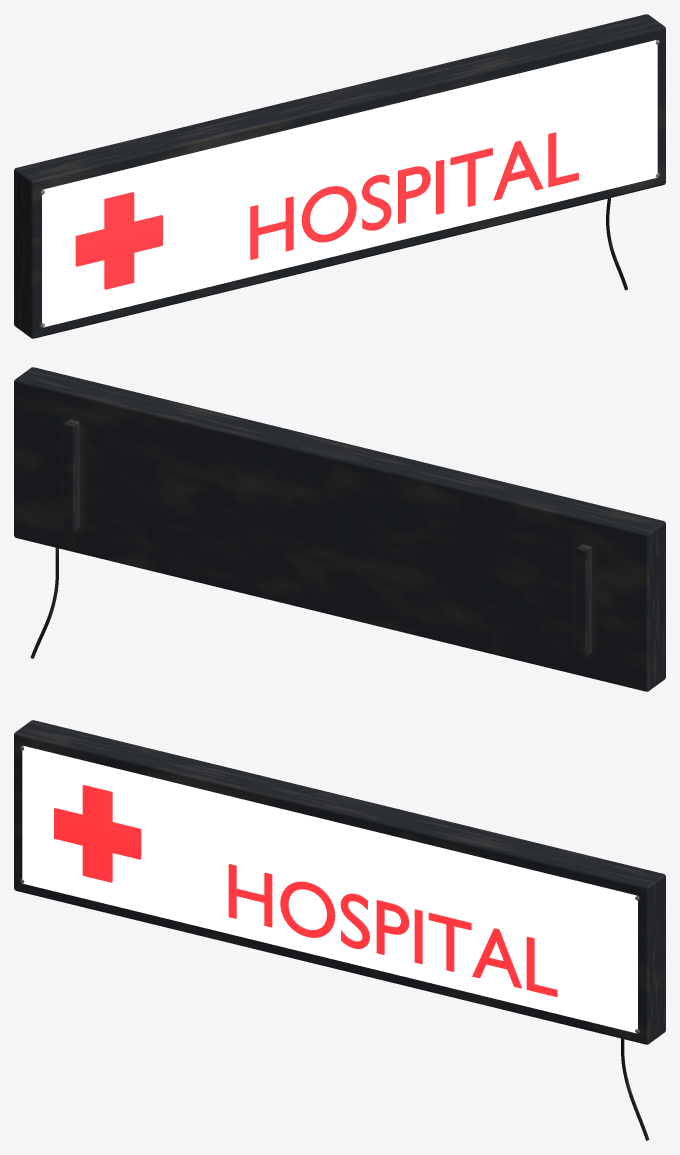
The model's file is szp_szyld.glb.
3 views of the same model, one above another, from view 1: azimuth 30°, elevation 25°; view 2: azimuth 150°, elevation 25°; view 3: azimuth 330°, elevation 25° (orthographic).
Parts seen in each view (by area): view 1: SwiatloLico, Kaseton, SwiatloNapis, SwiatloZnak; view 2: Kaseton; view 3: SwiatloLico, Kaseton, SwiatloNapis, SwiatloZnak.
Boxes of the visible parts, x1,y1,x2,y2 form: SwiatloLico: (42,40,657,327); Kaseton: (14,14,665,338); SwiatloNapis: (250,132,578,259); SwiatloZnak: (75,192,162,289); Kaseton: (14,367,665,691); SwiatloLico: (22,745,637,1033); Kaseton: (14,720,665,1140); SwiatloNapis: (228,864,557,996); SwiatloZnak: (54,785,141,882).
Bounding box in the file's own units: 3.1 × 1.27 × 0.226.
3 materials, 1 textured.
